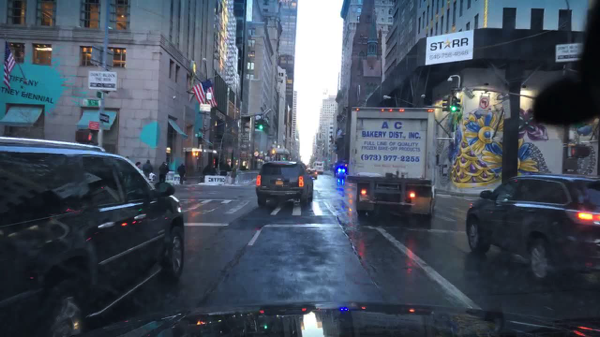bike: (336, 175, 345, 186), (198, 174, 204, 182)
bus: (312, 161, 324, 174)
car: (0, 136, 187, 337), (466, 176, 599, 284), (256, 160, 314, 207), (307, 168, 318, 180)
person: (158, 161, 169, 184), (142, 159, 153, 180), (176, 163, 186, 185), (230, 165, 238, 185), (332, 163, 335, 178), (134, 162, 141, 167), (124, 155, 129, 159)
rider: (336, 163, 348, 176), (209, 166, 217, 176), (202, 165, 208, 177)
traffic light: (448, 96, 461, 112), (442, 96, 449, 112), (258, 119, 263, 130), (253, 119, 257, 131), (263, 119, 267, 131), (192, 152, 199, 157)
traffic sign: (88, 70, 119, 92), (91, 44, 115, 71), (554, 44, 587, 62), (82, 99, 102, 108), (479, 96, 490, 109), (199, 103, 211, 112), (100, 113, 110, 123), (89, 120, 99, 130), (99, 124, 111, 131), (97, 91, 104, 98), (206, 93, 212, 100)
truck: (346, 107, 437, 218)
